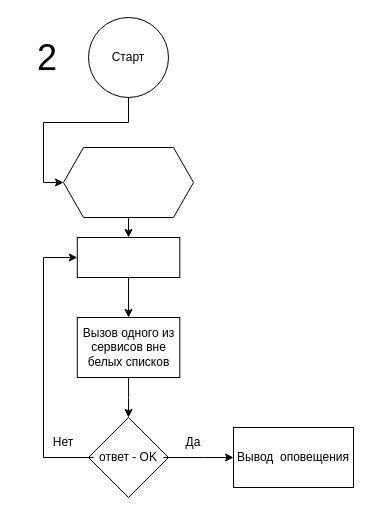
Some shapes in this 371 by 515 pixel diagram are drawn without their labels. Here are the shapes that lost their labels. From the top down, the centre of each, then its label:
(128,182): while True
(128,257): time.sleep()
